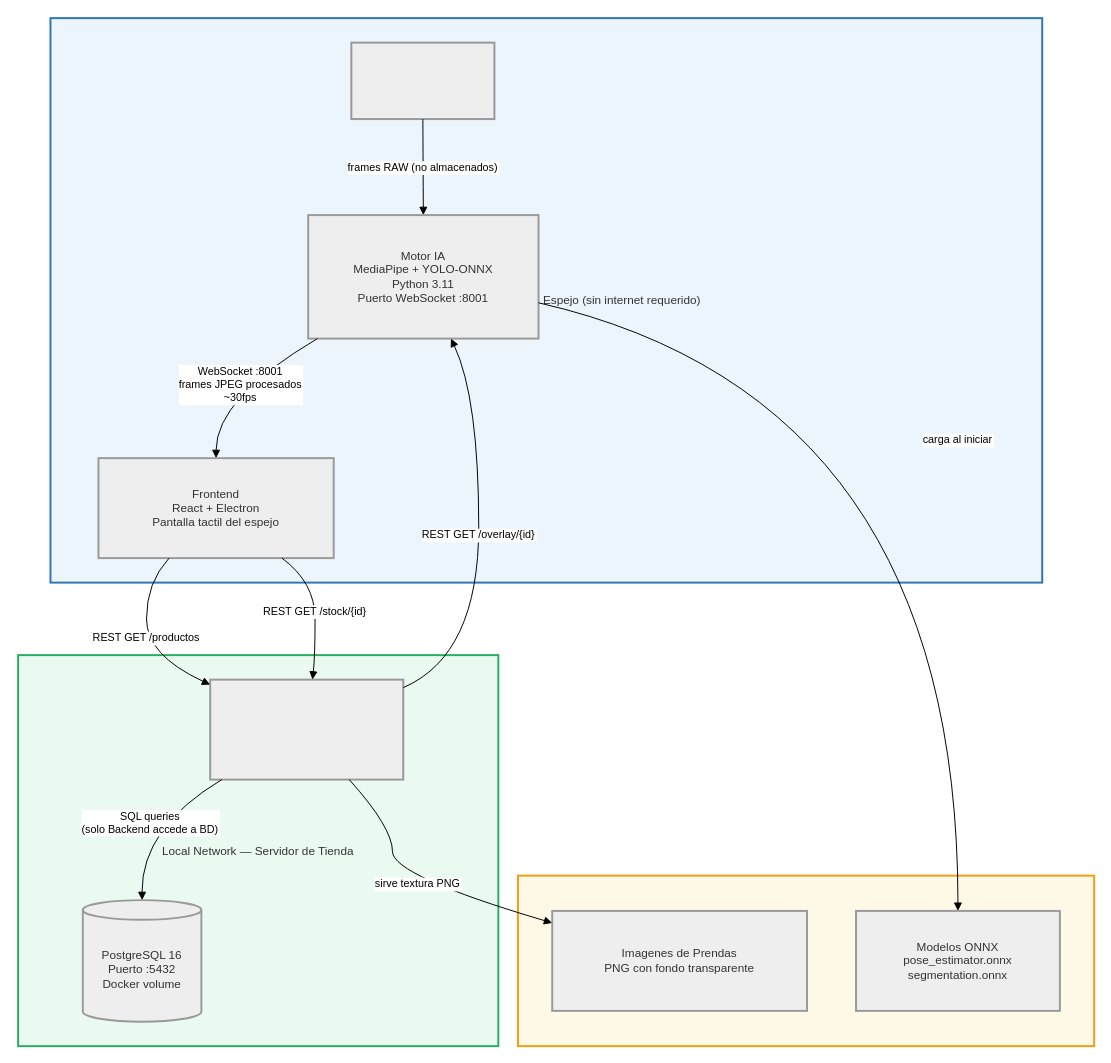
Image size: 1111x1063. Some labels were removed from this diagram. Each missing label, with the box of its shape:
Almacenamiento Local: (516, 874, 1095, 1047)
Backend FastAPI Puerto HTTP :8000 OpenAPI / Swagger: (209, 678, 404, 780)
Camara USB 60fps 1080p: (350, 41, 495, 120)
